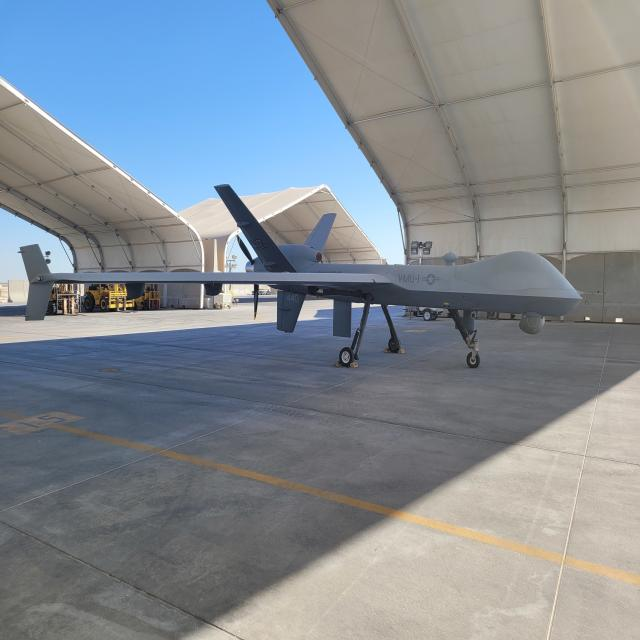MQ9: (28, 123, 640, 384)
